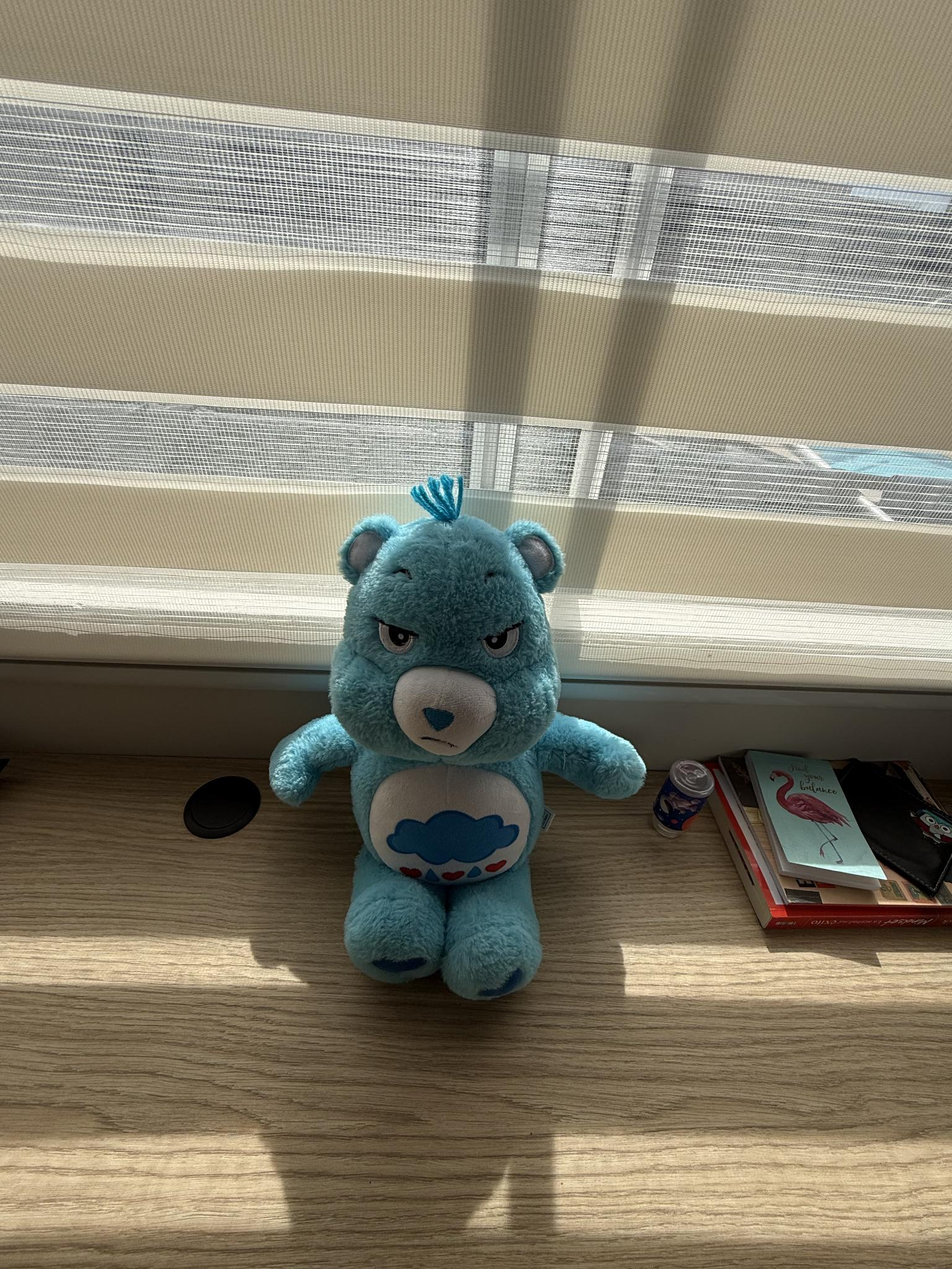peluche_Juan Jose: (267, 473, 647, 1003)
